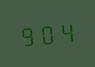four: (57, 19, 75, 44)
nine: (18, 22, 36, 47)
zero: (38, 20, 56, 46)
